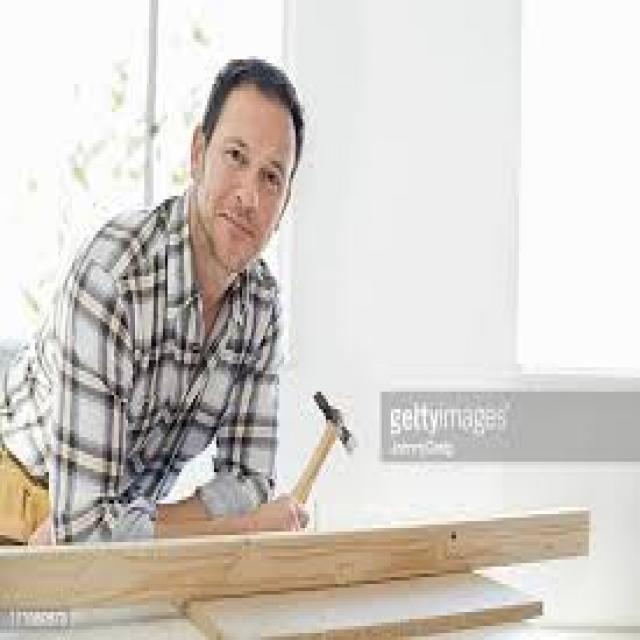hammer: (277, 374, 363, 535)
